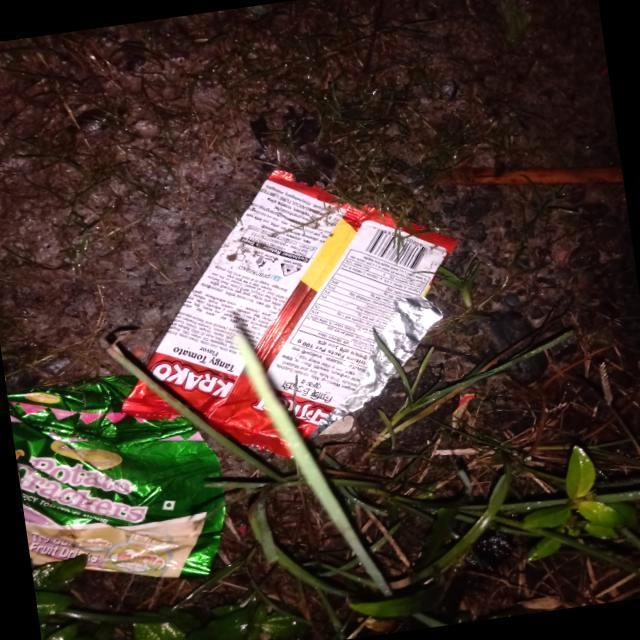packet: (169, 180, 436, 461), (6, 359, 250, 617)
